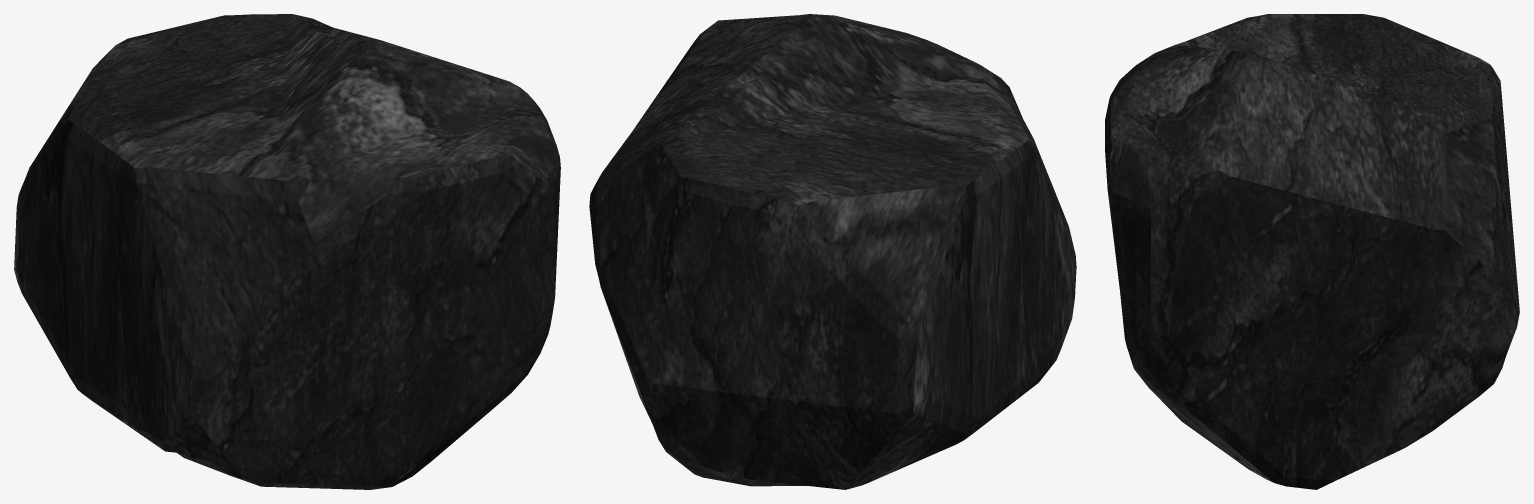
The model's file is Carvao.fbx.
The picture shows the model from 3 angles, left to right: view 1: azimuth 30°, elevation 25°; view 2: azimuth 150°, elevation 25°; view 3: azimuth 270°, elevation 25°; orthographic projection. The views are drawn at different scales.
Parts seen in each view (by area): view 1: Cube.001; view 2: Cube.001; view 3: Cube.001.
Boxes of the visible parts, x1,y1,x2,y2 form: Cube.001: [14, 14, 560, 489]; Cube.001: [589, 14, 1076, 489]; Cube.001: [1105, 14, 1519, 489].
Size of the model in its own units: 11.88 by 13.66 by 12.52.
1 material, 1 textured.
